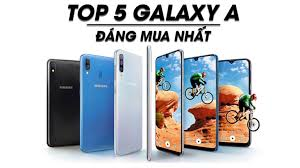samsung: (77, 53, 116, 154), (152, 49, 185, 158), (185, 52, 218, 152), (45, 57, 80, 149), (114, 49, 142, 156), (219, 56, 251, 149)
